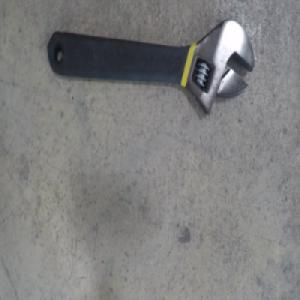AdjustableWrench: (47, 18, 254, 115)
